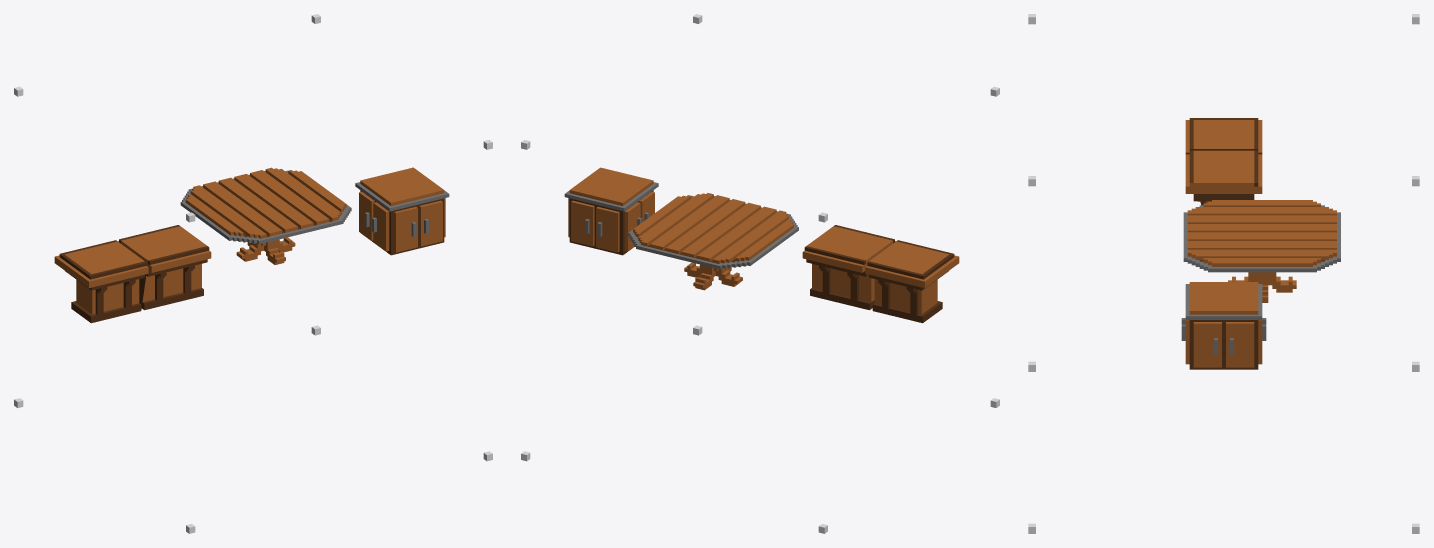
File: Bar Tables.fbx
The picture shows the model from 3 angles, left to right: view 1: azimuth 30°, elevation 25°; view 2: azimuth 150°, elevation 25°; view 3: azimuth 270°, elevation 25°; orthographic projection. The views are drawn at different scales.
Visible parts, largest first — view 1: Large Bar Table, Bar Cabinet, Bar Table End, Bar Table, ZContainCube; view 2: Large Bar Table, Bar Cabinet, Bar Table End, Bar Table, ZContainCube; view 3: Large Bar Table, Bar Cabinet, Bar Table, Bar Table End, ZContainCube.
Boxes of the visible parts, x1,y1,x2,y2 form: Large Bar Table: [180, 167, 351, 264]; Bar Cabinet: [355, 167, 449, 255]; Bar Table End: [54, 240, 148, 323]; Bar Table: [118, 225, 211, 310]; ZContainCube: [14, 14, 492, 533]; Large Bar Table: [628, 193, 798, 290]; Bar Cabinet: [564, 167, 658, 255]; Bar Table End: [865, 240, 959, 323]; Bar Table: [802, 225, 895, 310]; ZContainCube: [521, 14, 999, 533]; Large Bar Table: [1183, 200, 1340, 302]; Bar Cabinet: [1181, 282, 1266, 369]; Bar Table: [1185, 150, 1262, 205]; Bar Table End: [1185, 118, 1262, 204]; ZContainCube: [1028, 14, 1419, 533].
Size of the model in its own units: 1221 by 1020 by 1020.
